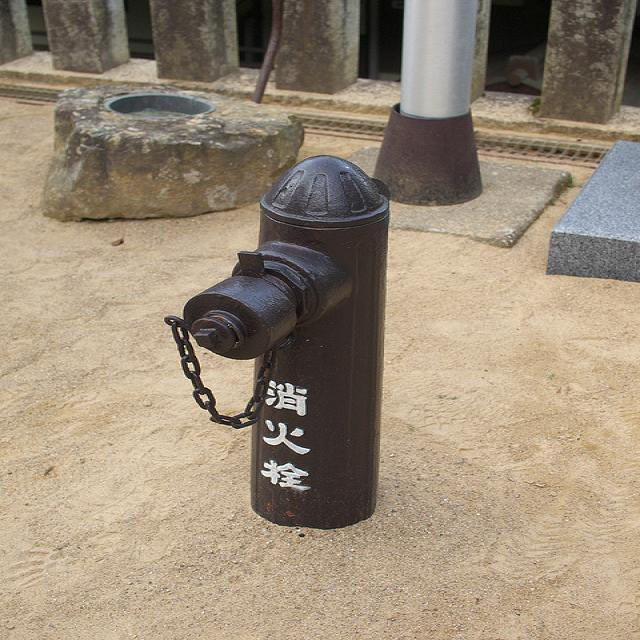fire_hydrant: (181, 155, 391, 529)
